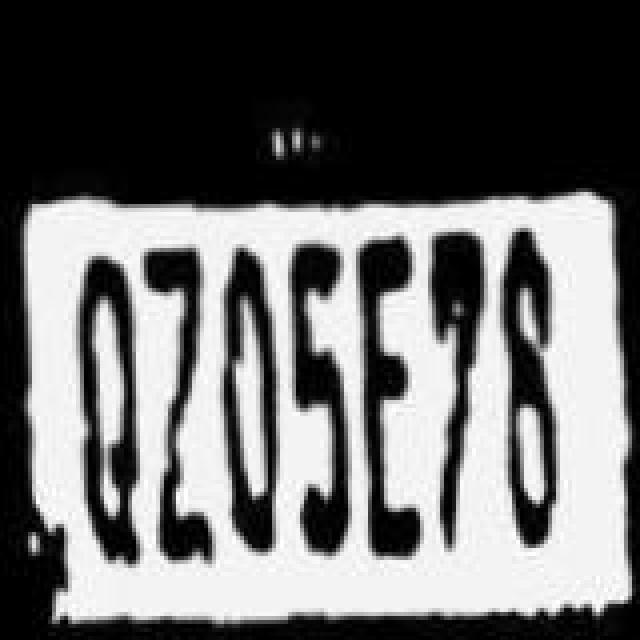5: (276, 234, 364, 554)
7: (422, 226, 498, 554)
8: (488, 218, 568, 550)
E: (350, 226, 434, 566)
O: (208, 234, 296, 566)
Q: (70, 244, 138, 572)
Z: (138, 232, 214, 576)
